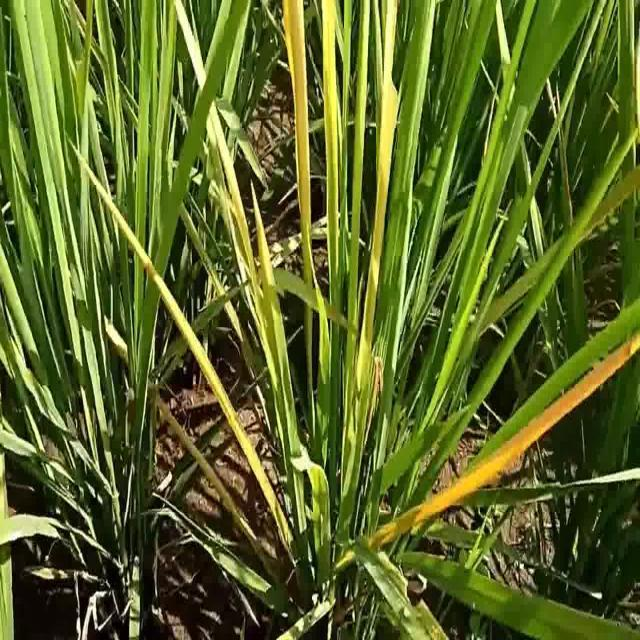Rice Tungro: (62, 127, 250, 509), (382, 329, 638, 551), (348, 4, 406, 404), (280, 3, 326, 303), (249, 178, 294, 407), (319, 1, 347, 276)
